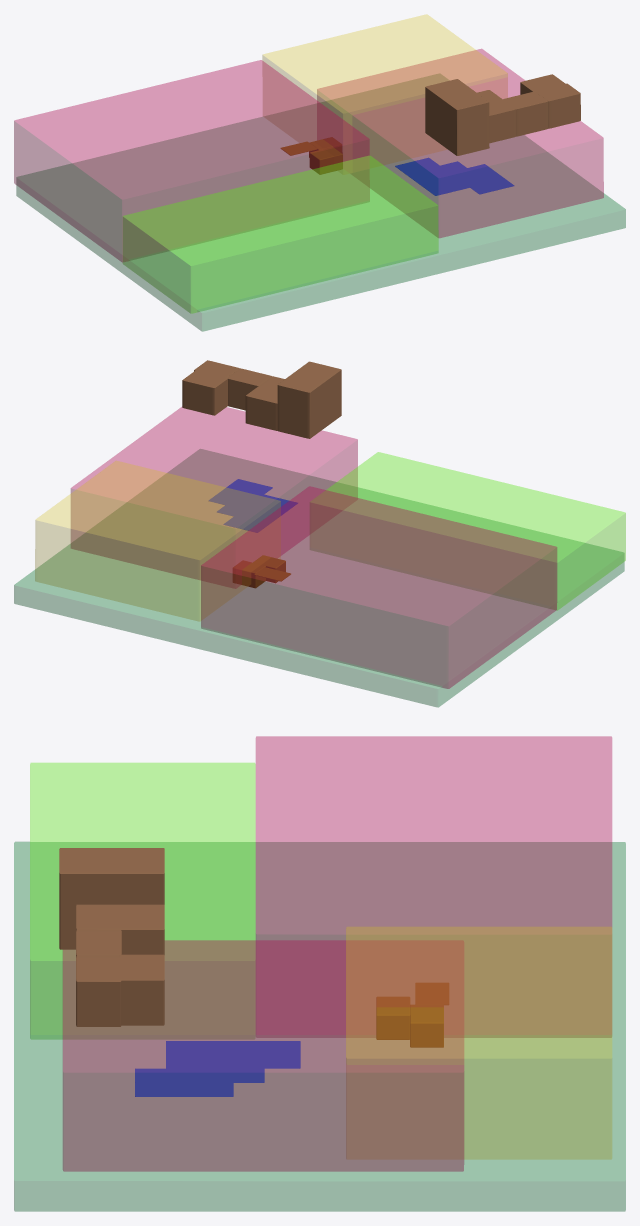
Rendered from terrain3.gltf.
3 views of the same model, one above another, from view 1: azimuth 30°, elevation 25°; view 2: azimuth 150°, elevation 25°; view 3: azimuth 270°, elevation 25° (orthographic). The views are drawn at different scales.
Parts seen in each view (by area): view 1: Cube top center (×10), Cube top, Cube right; view 2: Cube top center (×9), Cube right (×2), Cube top; view 3: Cube top center (×11), Cube right (×7), Cube top (×3).
Part boxes in pixels (x1,y1,x2,y2): Cube top center (×10): (14, 14, 625, 331); Cube top: (309, 147, 342, 174); Cube right: (467, 164, 514, 190); Cube top center (×9): (14, 361, 625, 707); Cube right (×2): (209, 479, 261, 516); Cube top: (233, 560, 265, 588); Cube top center (×11): (14, 736, 625, 1211); Cube right (×7): (135, 1041, 300, 1096); Cube top (×3): (376, 983, 448, 1047).
Size of the model in its own units: 28.78 by 9.34 by 21.56.
